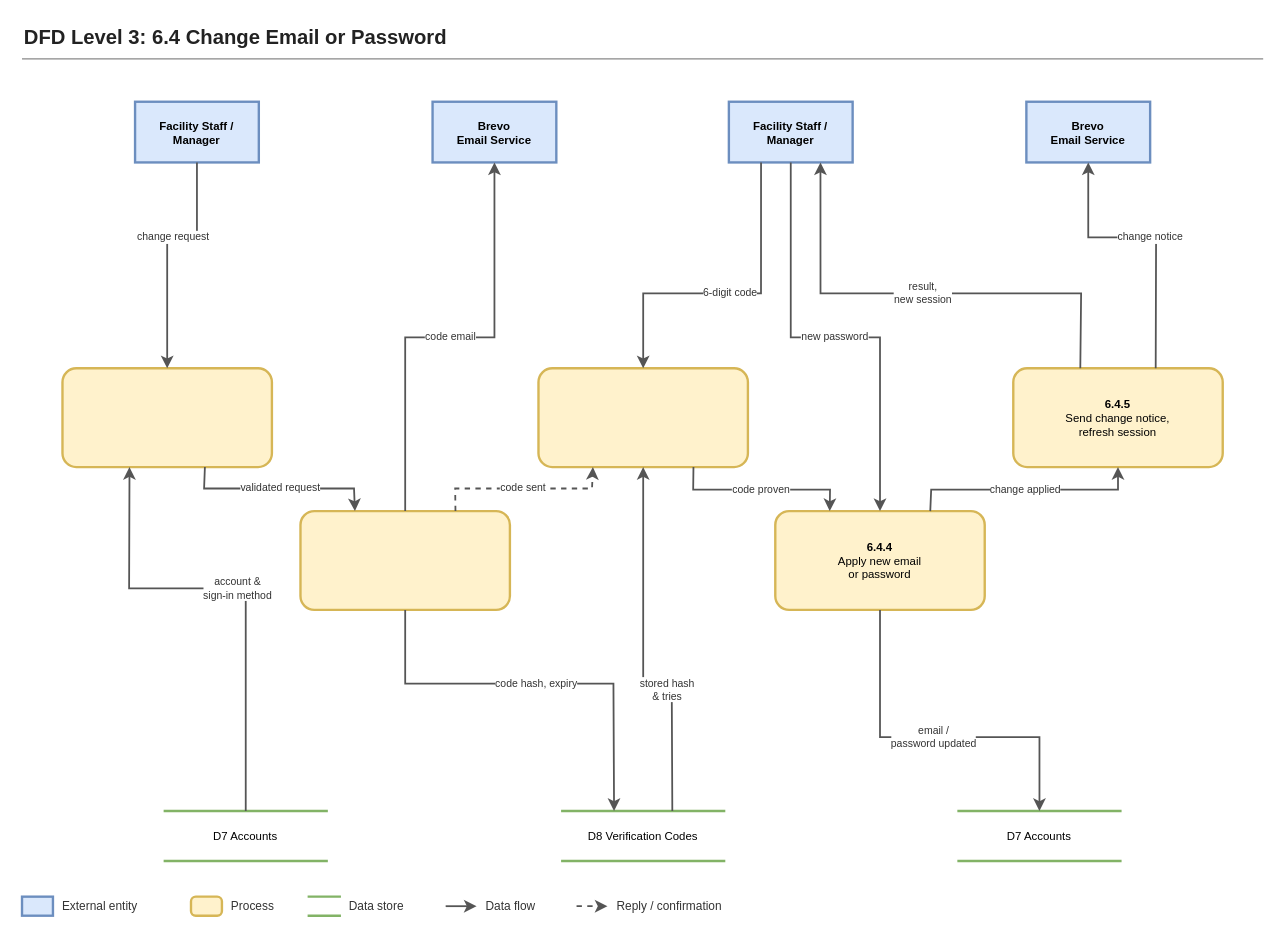
The diagram is 1285 pixels wide and 937 high, and some of its shapes have lost their labels. The shapes that lost their labels are listed below. From the top down, each one's box as (x1, y1, x2, y2) in pixels, then its label:
(61, 367, 273, 468): 6.4.1 Accept request & validate
(537, 367, 749, 468): 6.4.3 Verify code (tries & expiry limits)
(299, 509, 511, 610): 6.4.2 Generate & email code
